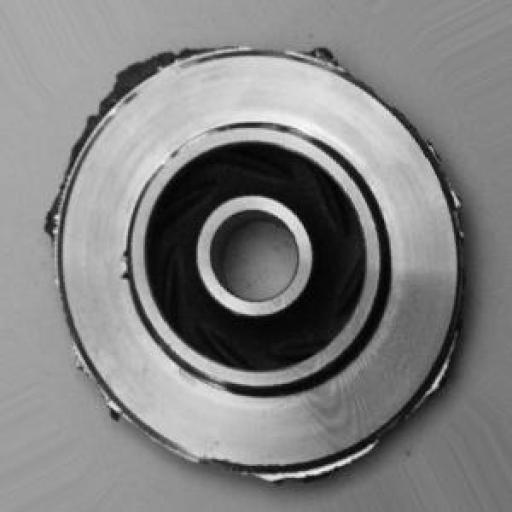defect: (36, 24, 483, 479)
